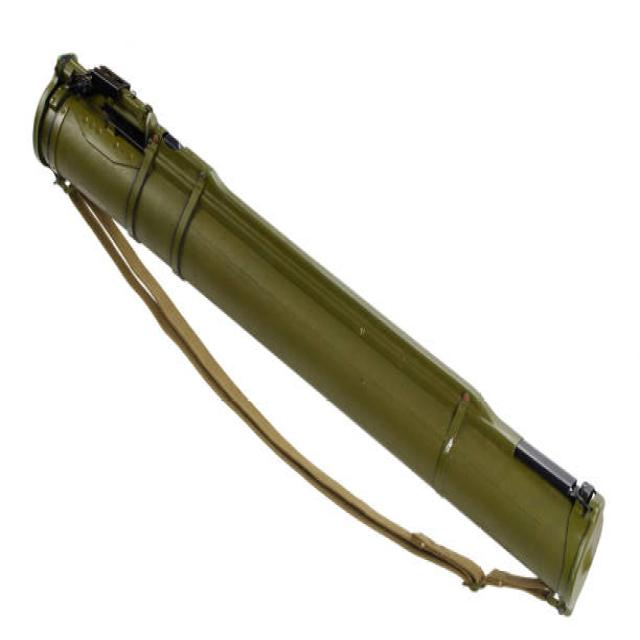bazooka: (24, 44, 609, 620)
